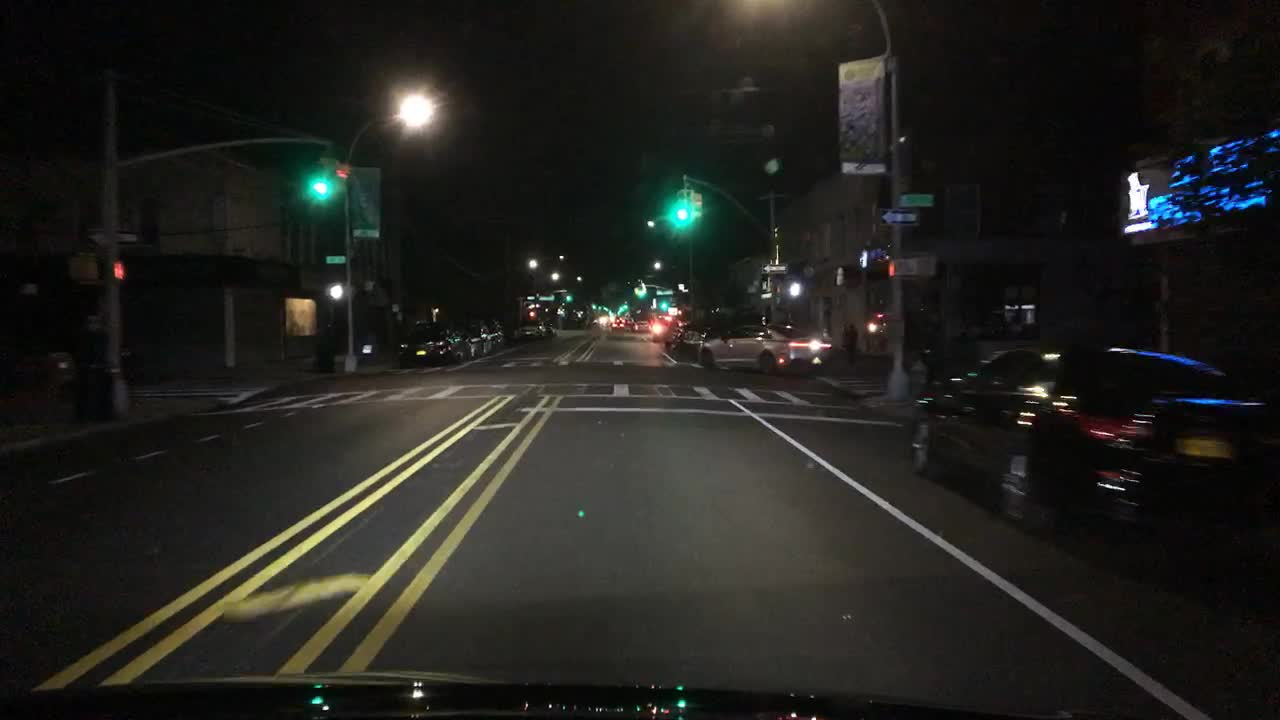car: (906, 337, 1249, 543), (0, 341, 130, 401), (696, 320, 789, 371), (754, 317, 833, 374), (396, 318, 465, 367), (666, 317, 714, 363), (458, 319, 492, 357), (511, 317, 546, 343), (484, 317, 506, 353), (651, 316, 672, 343), (541, 320, 557, 336), (609, 315, 624, 331), (633, 319, 651, 332), (625, 315, 634, 326)
person: (77, 307, 109, 430), (918, 322, 943, 388), (842, 321, 859, 363)
traffic light: (65, 250, 101, 285), (310, 162, 329, 199), (327, 162, 346, 196), (885, 257, 917, 276), (671, 187, 687, 223), (687, 189, 703, 219), (322, 282, 346, 302), (863, 317, 886, 335), (786, 280, 801, 302), (113, 261, 126, 278), (563, 290, 573, 304)
traffic sign: (88, 227, 135, 248), (878, 209, 918, 226), (898, 192, 935, 208), (759, 262, 787, 274), (325, 255, 346, 265), (654, 287, 674, 296), (537, 293, 554, 302), (759, 290, 773, 300)
